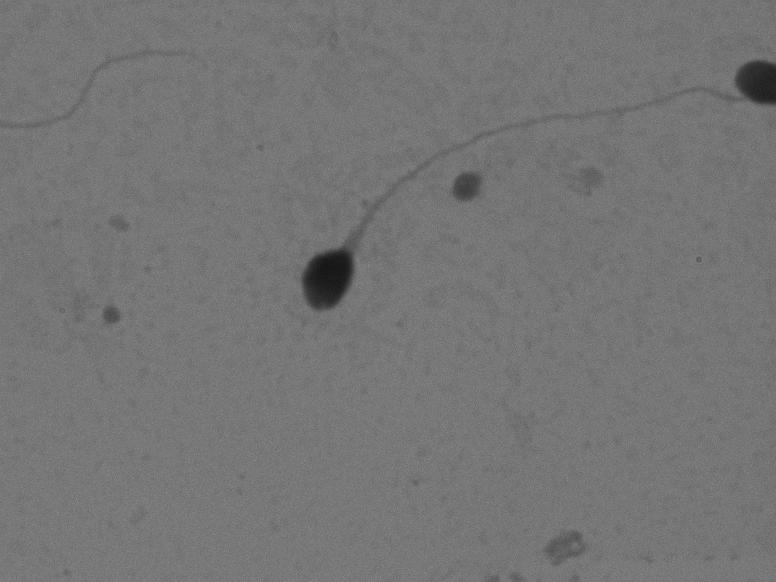Abnormal: (270, 62, 735, 334)
